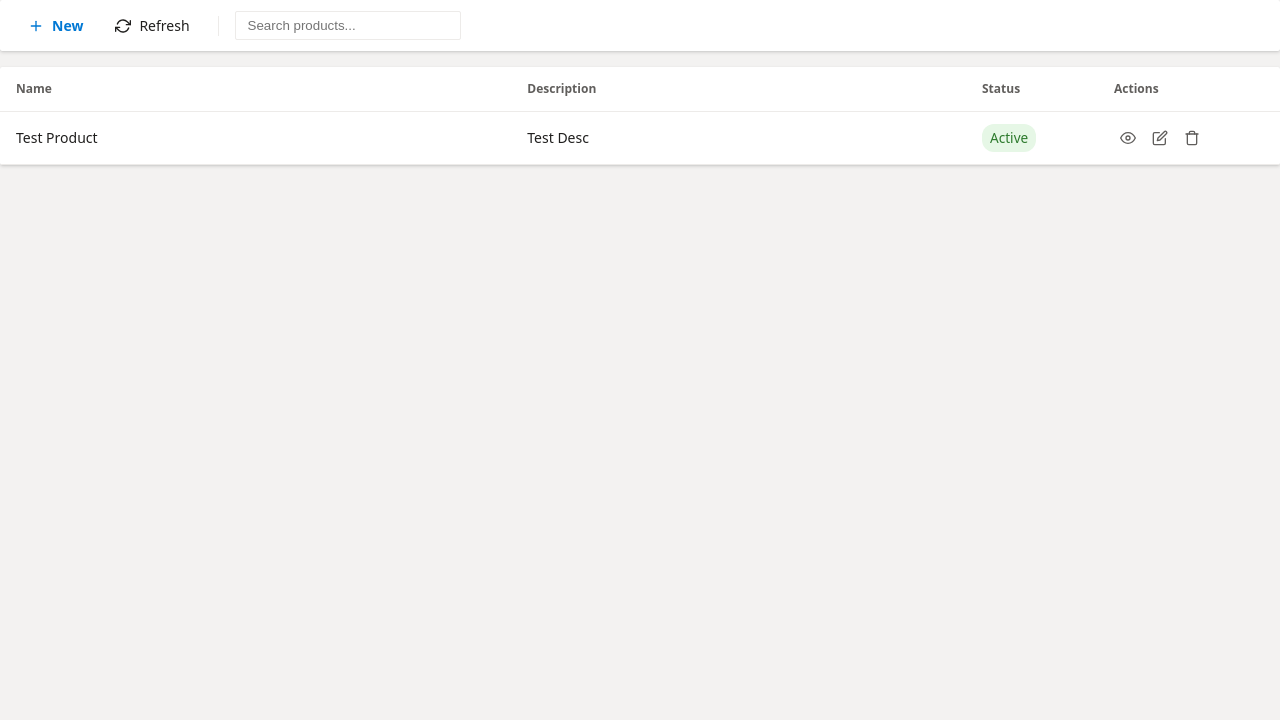
Test case: ProductsPage › opens view details when row is clicked
The image size is (1280, 720).
Click the text "Test Product" at (256, 138), box [0, 112, 511, 164]
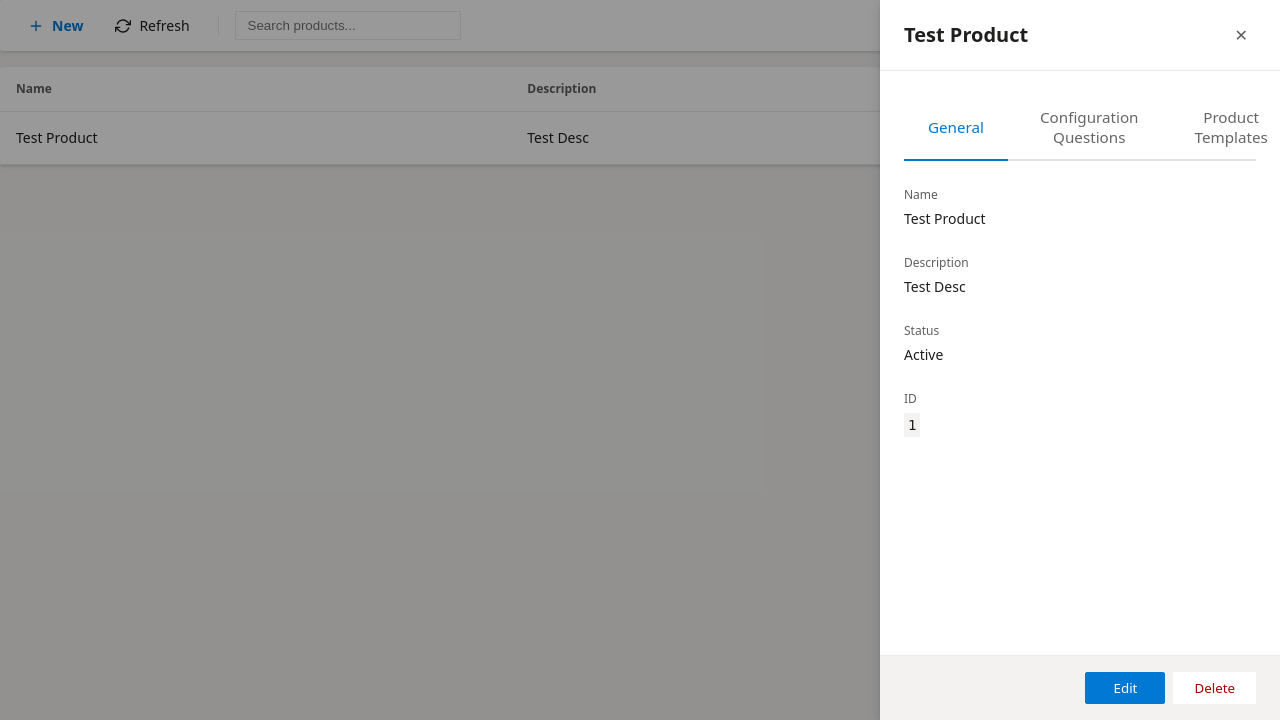
Expected: the heading "Test Product" is shown, [904, 25, 1028, 45]
